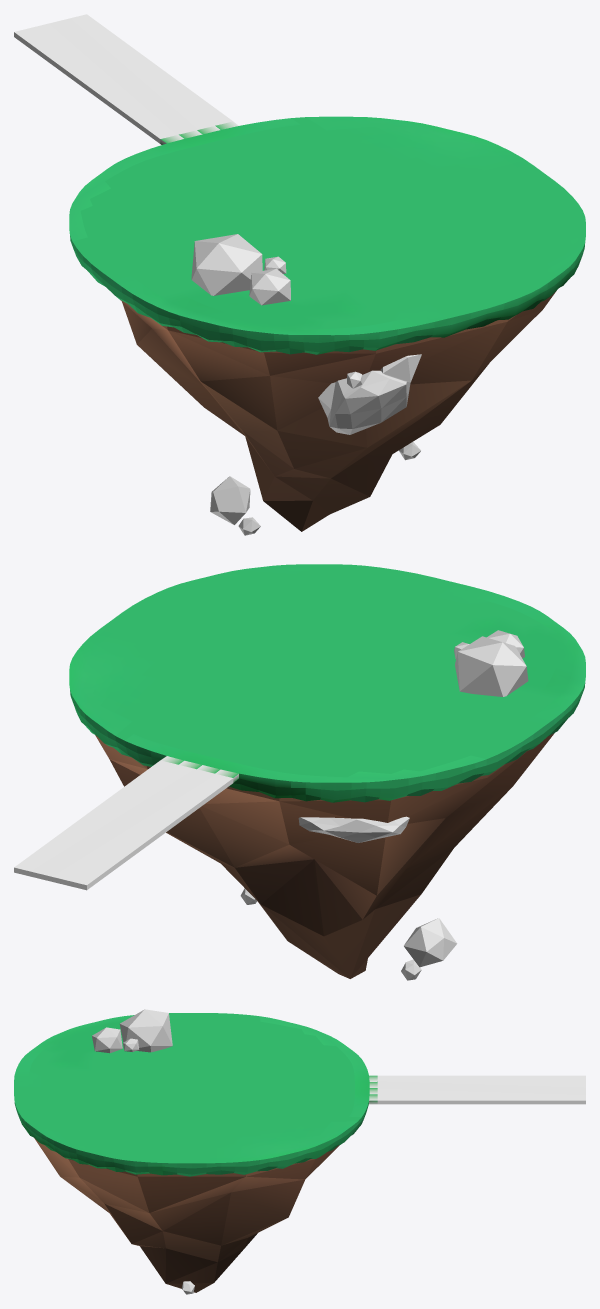
File: low-poly island.fbx
The picture shows the model from 3 angles, top to bottom: view 1: azimuth 30°, elevation 25°; view 2: azimuth 150°, elevation 25°; view 3: azimuth 270°, elevation 25°; orthographic projection. The views are drawn at different scales.
Visible parts, largest first — view 1: Top.001, Bottom, Top.000, rock, Rock_top.001, Floating_dirt.001, Rock_top, Rock.001; view 2: Top.001, Bottom, Top.000, Rock_top.001, Rock.002, Floating_dirt.001; view 3: Top.001, Bottom, Top.000, Rock_top.001, Rock_top.
Boxes of the visible parts, x1,y1,x2,y2 form: Top.001: [69, 116, 585, 354]; Bottom: [120, 290, 556, 531]; Top.000: [14, 14, 238, 144]; rock: [318, 370, 410, 434]; Rock_top.001: [191, 234, 262, 295]; Floating_dirt.001: [210, 476, 250, 524]; Rock_top: [249, 268, 290, 305]; Rock.001: [380, 354, 421, 382]; Top.001: [69, 564, 585, 802]; Bottom: [95, 733, 554, 978]; Top.000: [14, 756, 238, 890]; Rock_top.001: [455, 636, 528, 696]; Rock.002: [298, 816, 409, 842]; Floating_dirt.001: [404, 918, 457, 967]; Top.001: [14, 1013, 369, 1176]; Bottom: [34, 1138, 339, 1292]; Top.000: [369, 1075, 585, 1104]; Rock_top.001: [119, 1009, 172, 1052]; Rock_top: [92, 1027, 122, 1053].
Bounding box in the file's own units: 2733 × 2029 × 4396.
